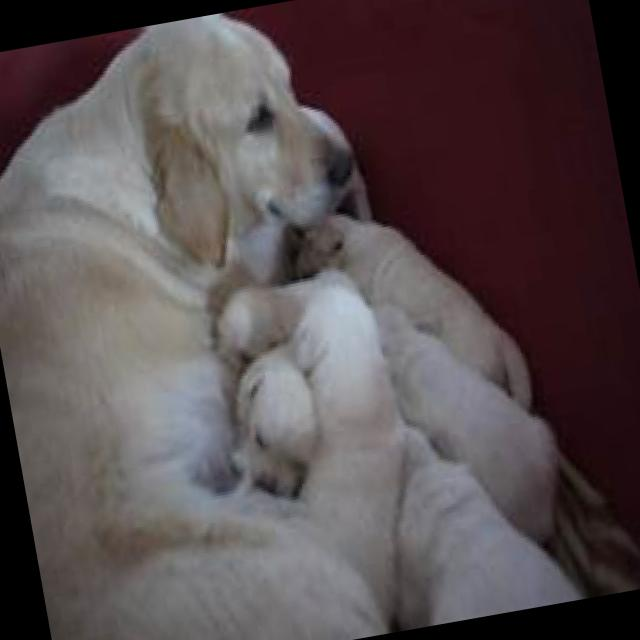animal: (0, 0, 589, 640)
